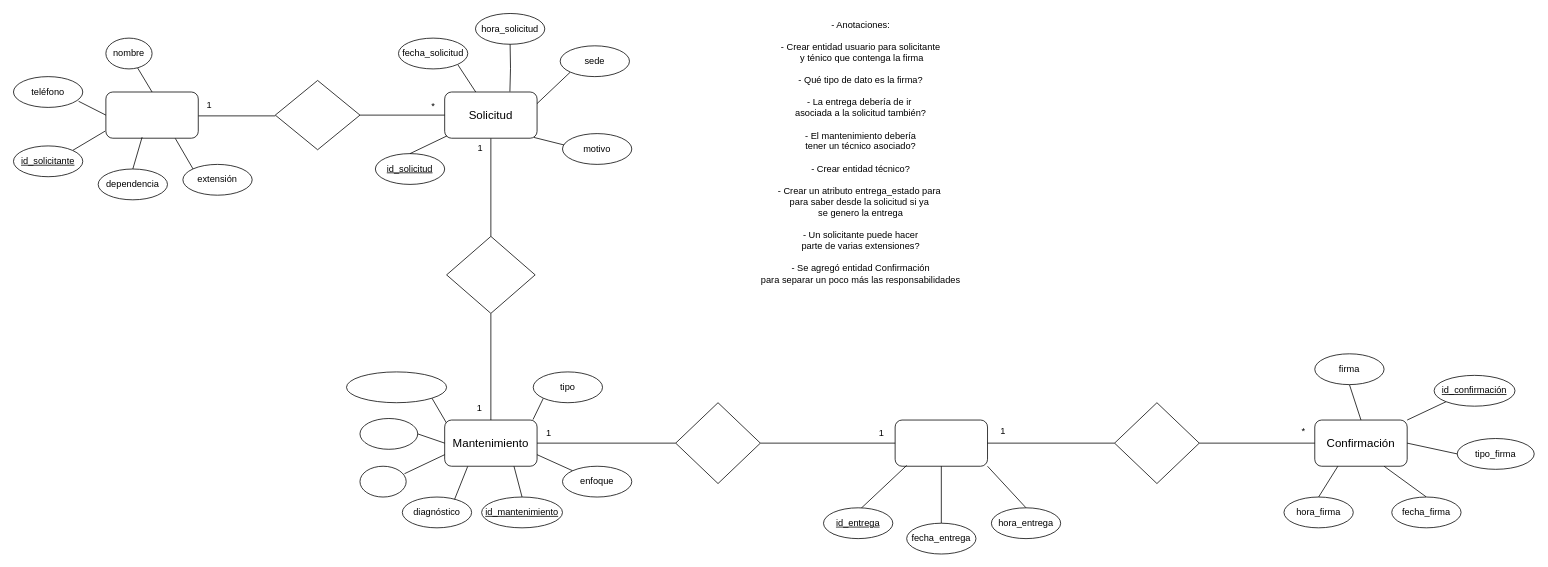
The diagram is 1548 pixels wide and 567 high, and some of its shapes have lost their labels. Here are the shapes that lost their labels. From the top down, the centre of each, then its label:
At [151,114]: "Solicitante".
At [317,115]: "Realiza".
At [490,274]: "Solicita".
At [396,387]: "fecha_mantenimiento".
At [388,433]: "hora_inicio".
At [717,443]: "Genera".
At [941,442]: "Entrega".
At [1156,443]: "Requiere".
At [382,481]: "hora_fin".
